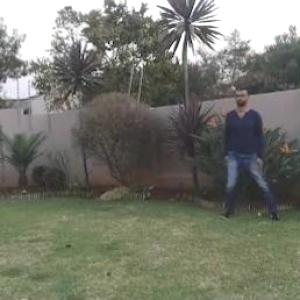follow: (222, 81, 263, 220)
